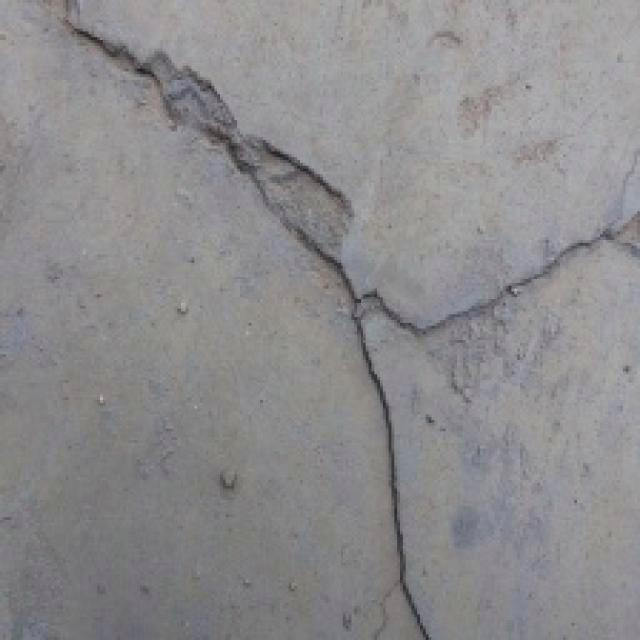SurfaceCrack: (50, 0, 470, 640), (298, 170, 640, 380)
